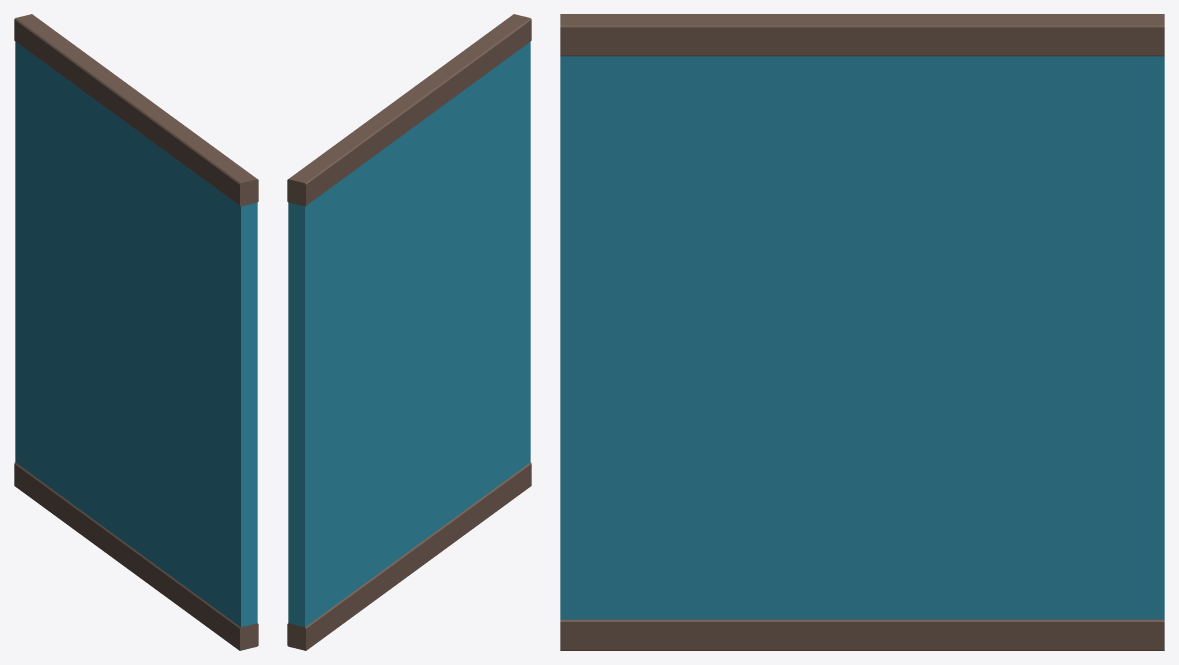
File: SmallWallTile.fbx
3 renders of one model, left to right at view 1: azimuth 30°, elevation 25°; view 2: azimuth 150°, elevation 25°; view 3: azimuth 270°, elevation 25°, orthographic. The views are drawn at different scales.
Visible parts, largest first — view 1: SmallWallTile; view 2: SmallWallTile; view 3: SmallWallTile.
Boxes of the visible parts, x1,y1,x2,y2 form: SmallWallTile: (14,14,258,650); SmallWallTile: (287,14,531,650); SmallWallTile: (560,14,1164,650).
Size of the model in its own units: 34 by 800 by 700.
